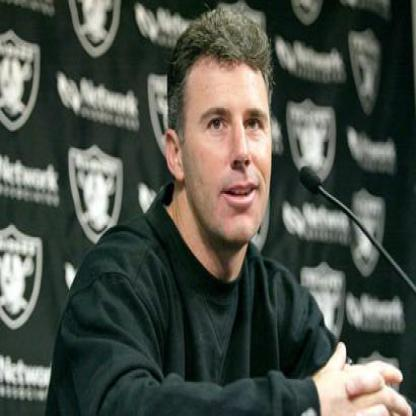face: (180, 26, 279, 251)
